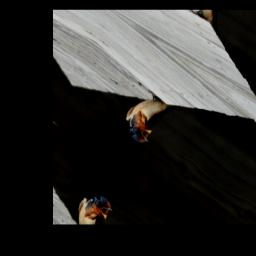Swallow: (117, 85, 174, 153)
